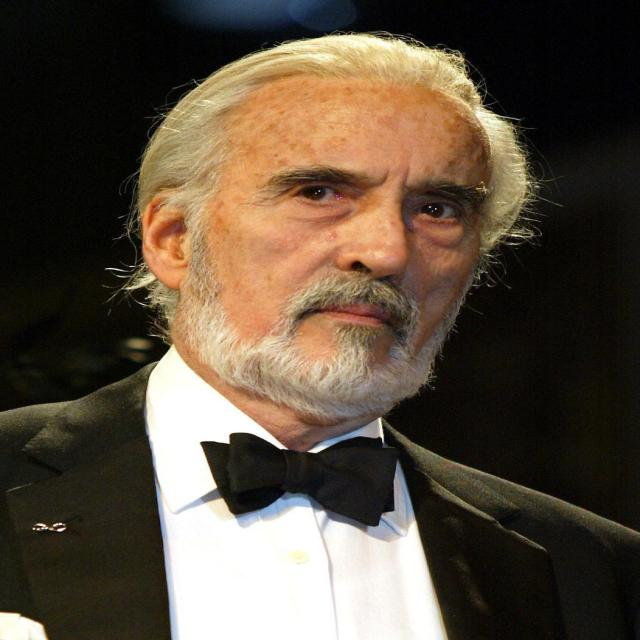no-earmuff: (120, 166, 234, 298)
